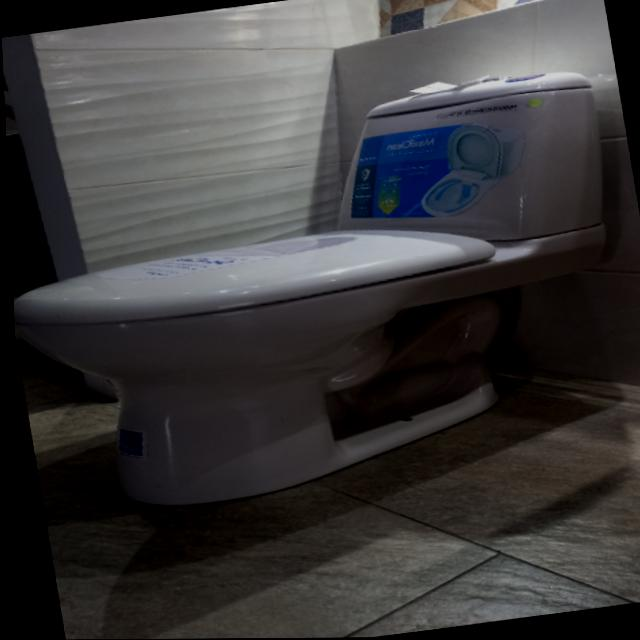toilet: (2, 62, 640, 524)
